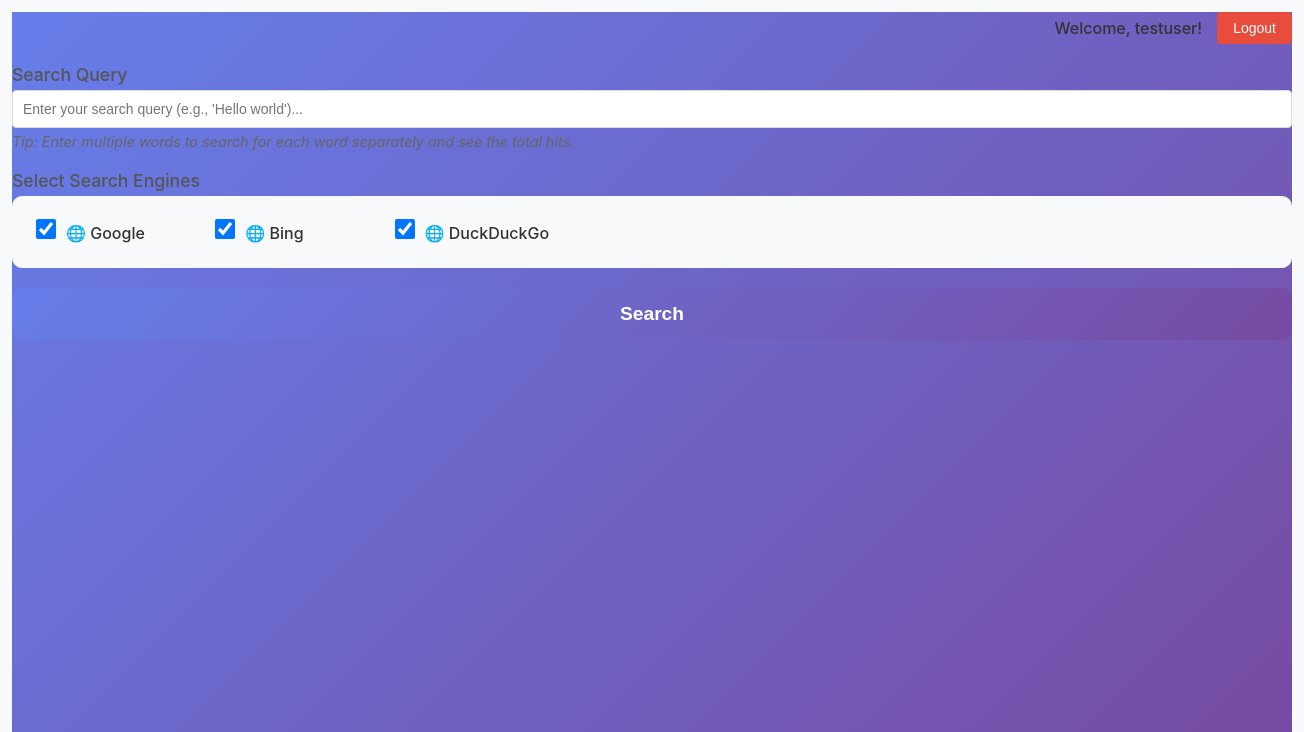
Test case: SearchForm Component › Form Validation › should show error when submitting empty query
The image size is (1304, 732).
Click the button with test id "search-button".
click(652, 314)  # box [12,288,1292,340]
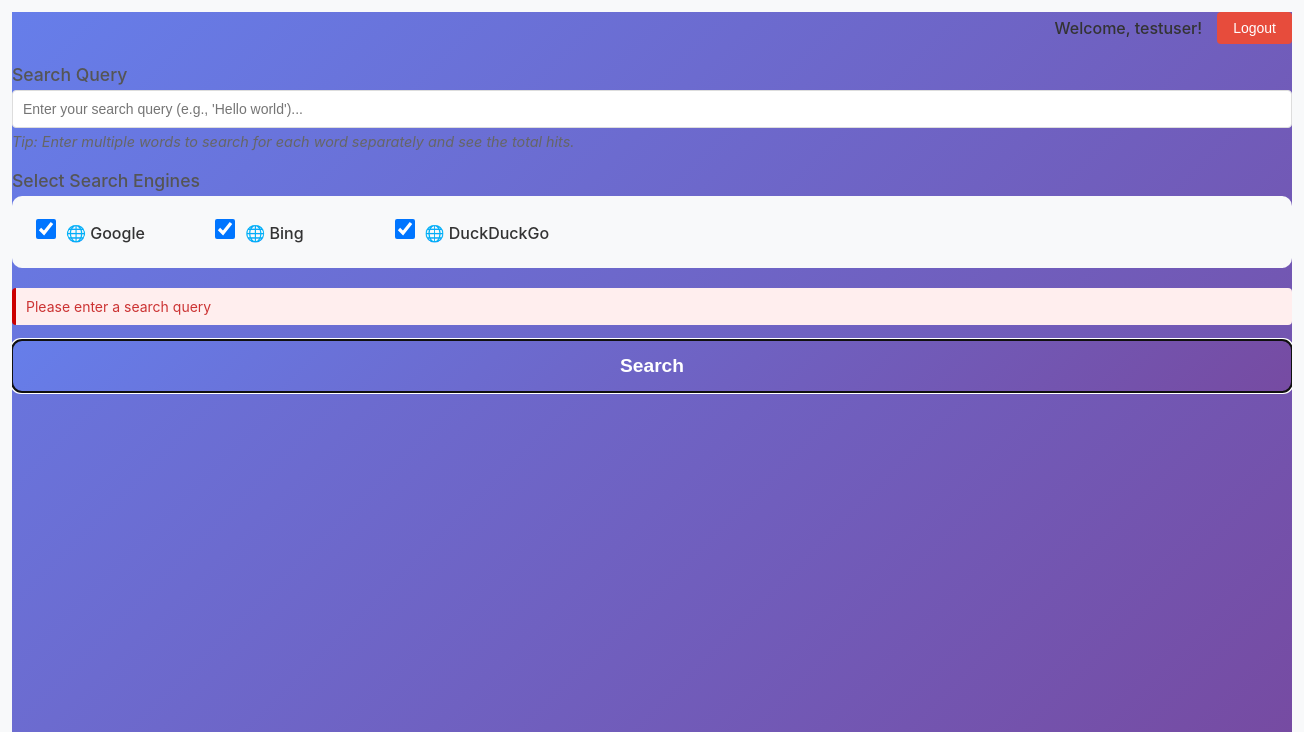
Now the text "Please enter a search query" is shown, box [12,288,1292,325]
